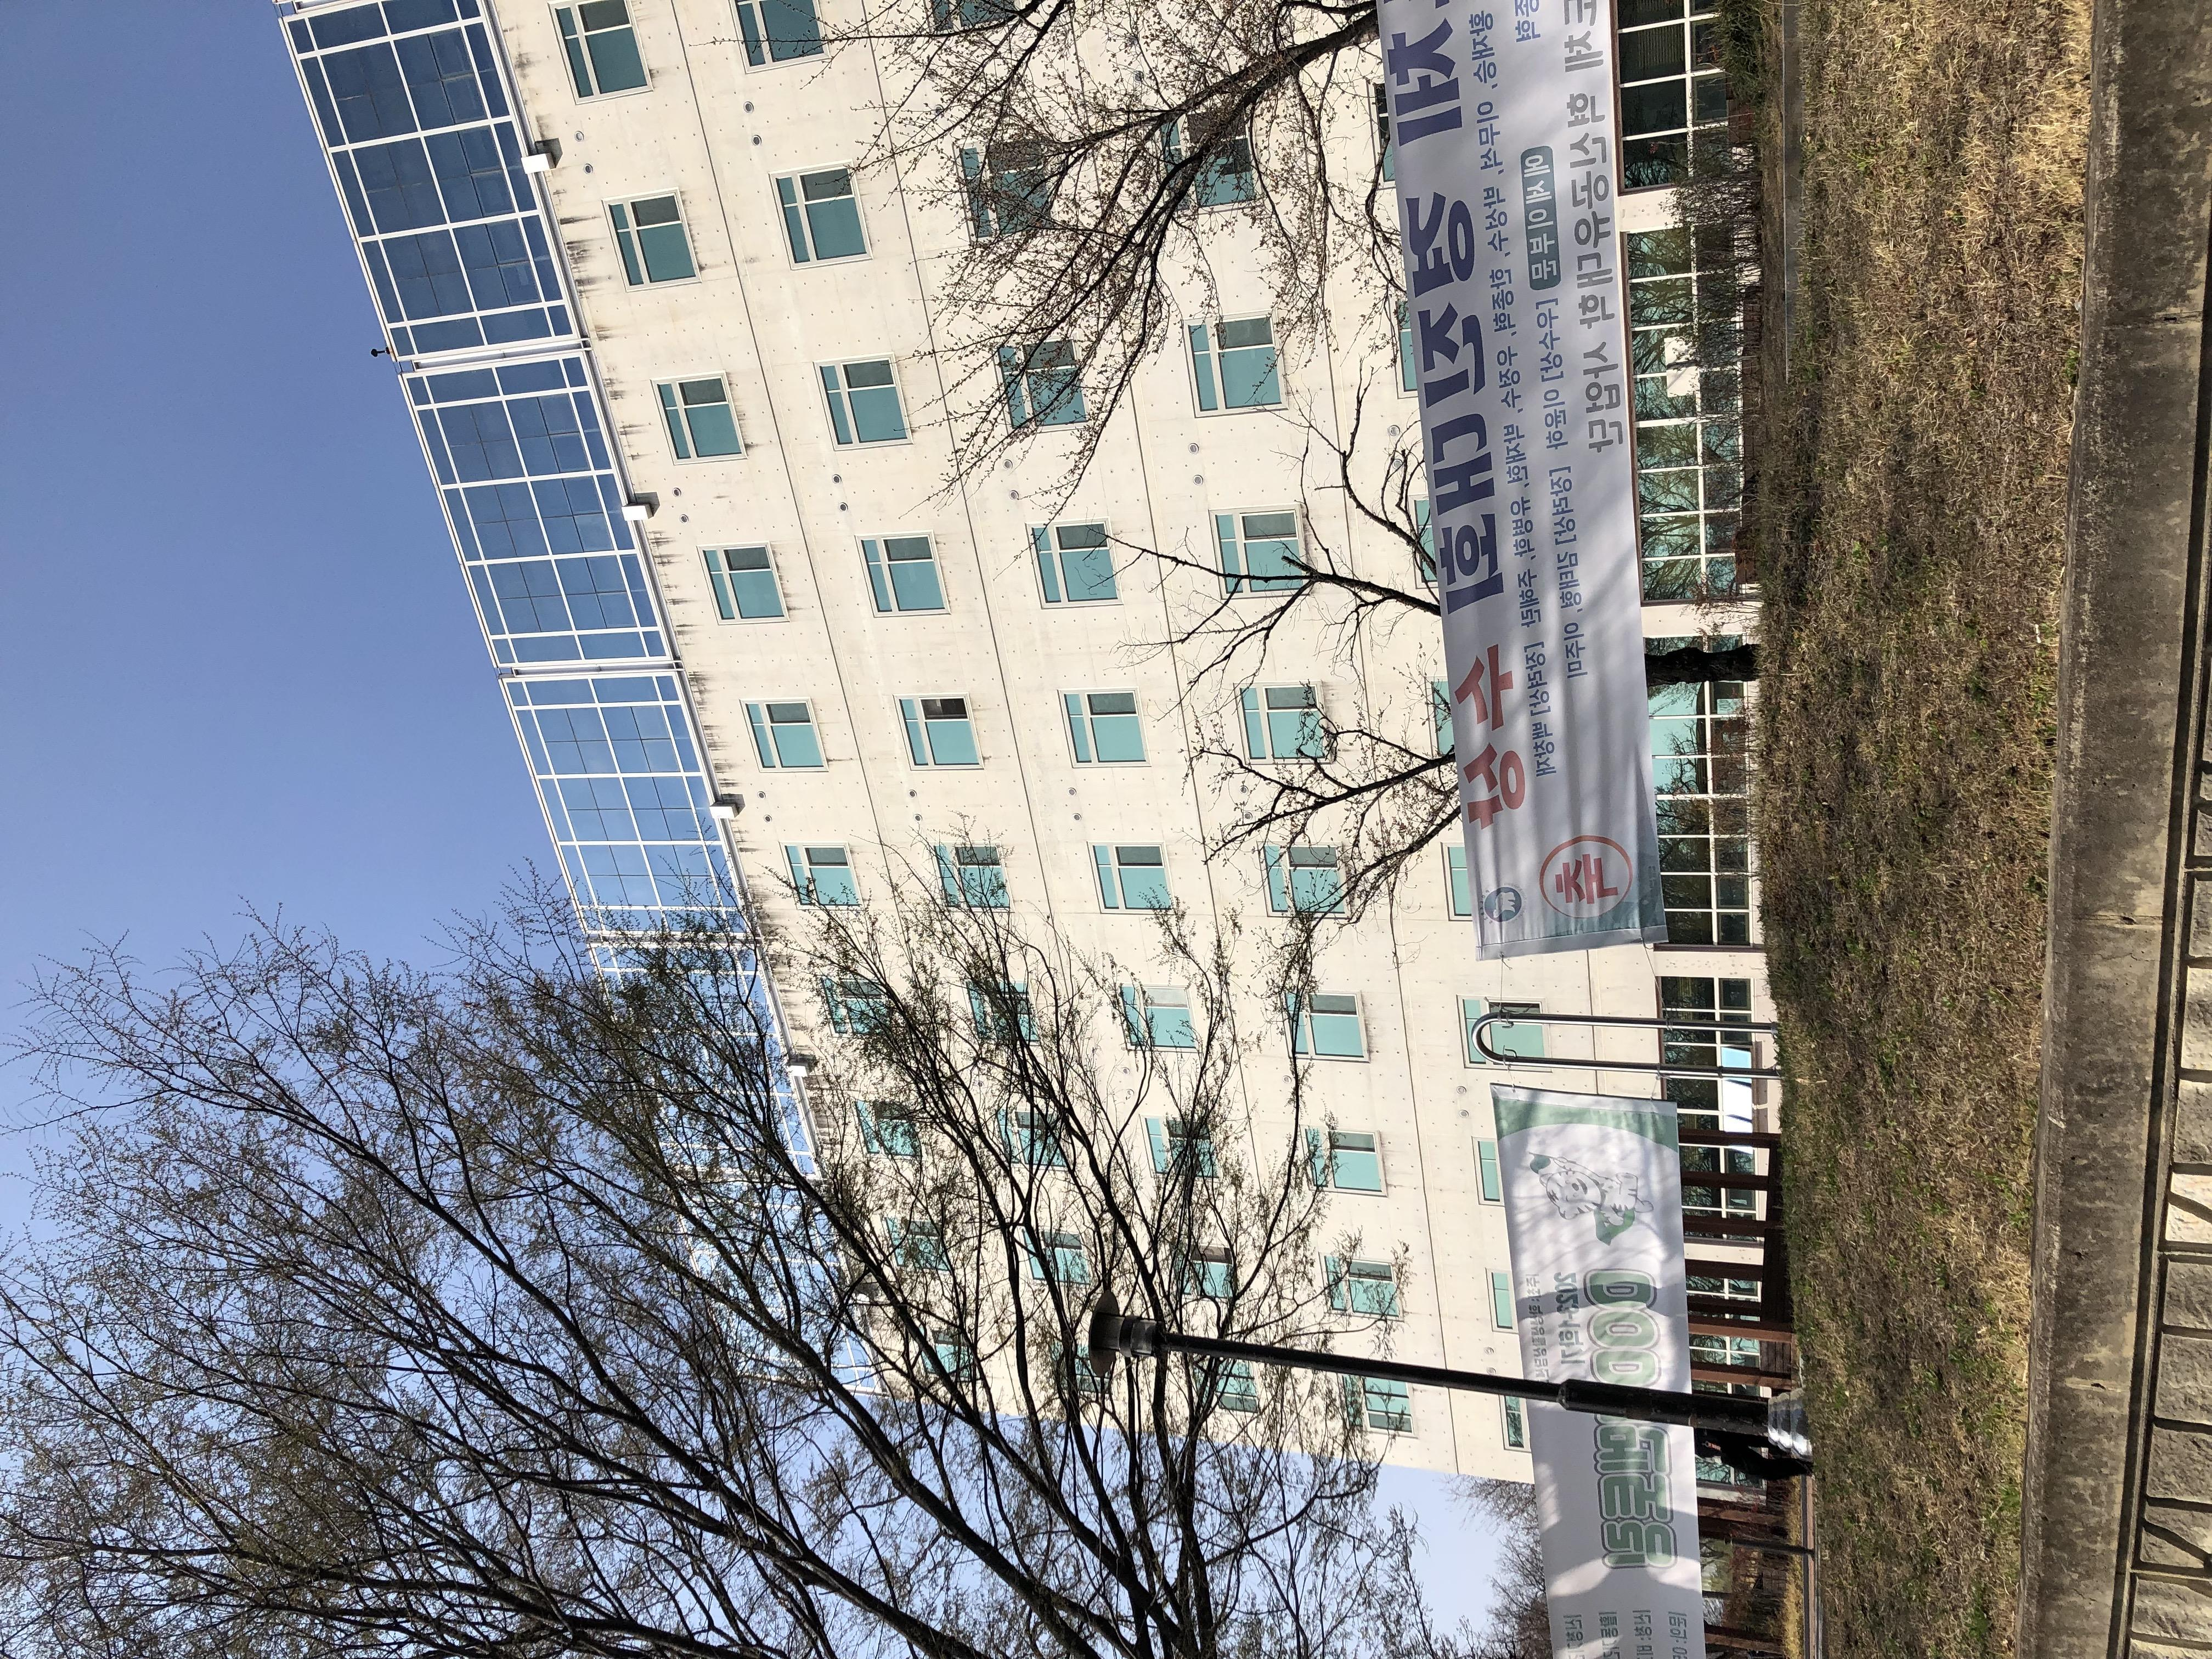building: (270, 183, 2212, 1340)
